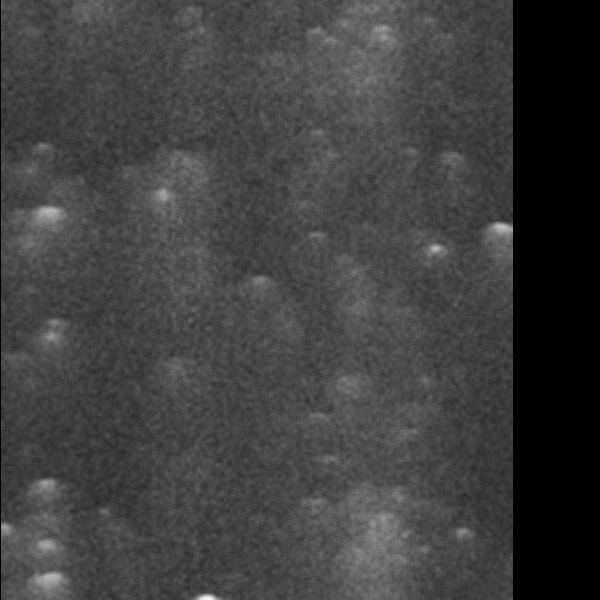spark: (8, 205, 52, 268), (331, 19, 386, 65), (25, 200, 74, 250), (487, 217, 518, 284), (326, 368, 373, 409), (237, 271, 277, 319), (146, 179, 176, 241), (34, 314, 65, 364), (23, 569, 66, 600), (312, 26, 347, 64), (27, 477, 69, 508), (447, 520, 481, 556), (25, 540, 69, 561), (302, 225, 340, 243), (425, 239, 446, 271), (1, 518, 10, 553)
